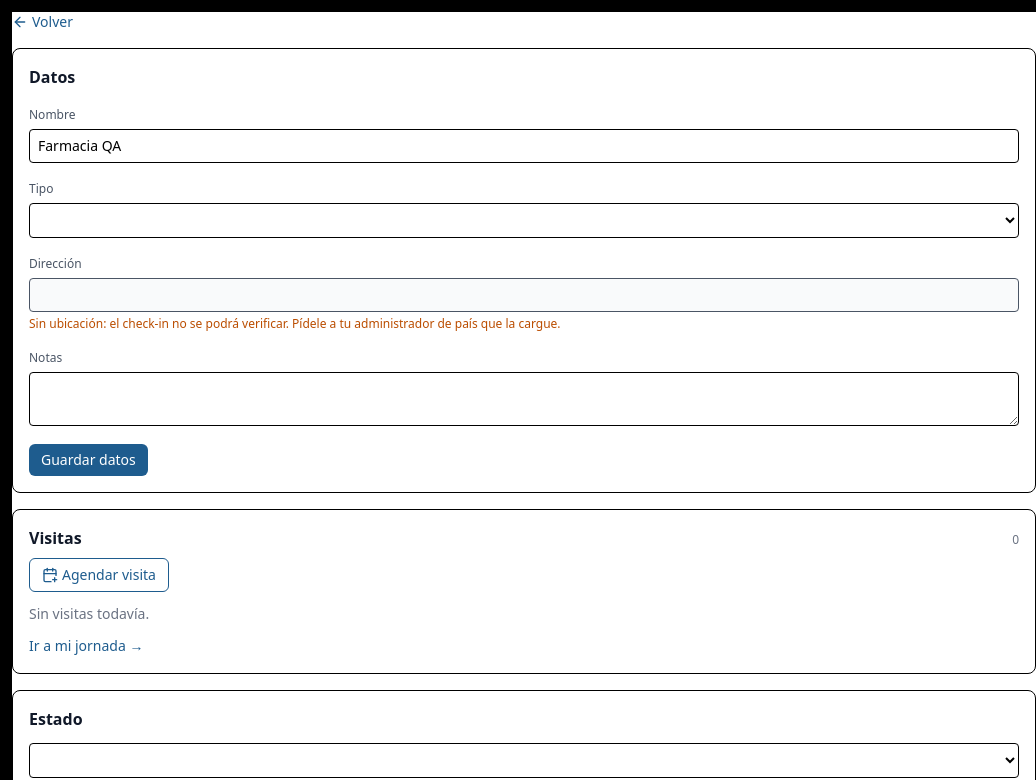
Test: ProspectoFichaPage — el 23505 al agendar lleva el contexto de la pantalla › muestra "Ya hay una visita activa para este prospecto ese día", no el genérico del mapa
// fireEvent y no user-event: no se agrega una dependencia nueva por un test.
Click the button "Agendar visita" at (99, 575), box [29,558,169,592]
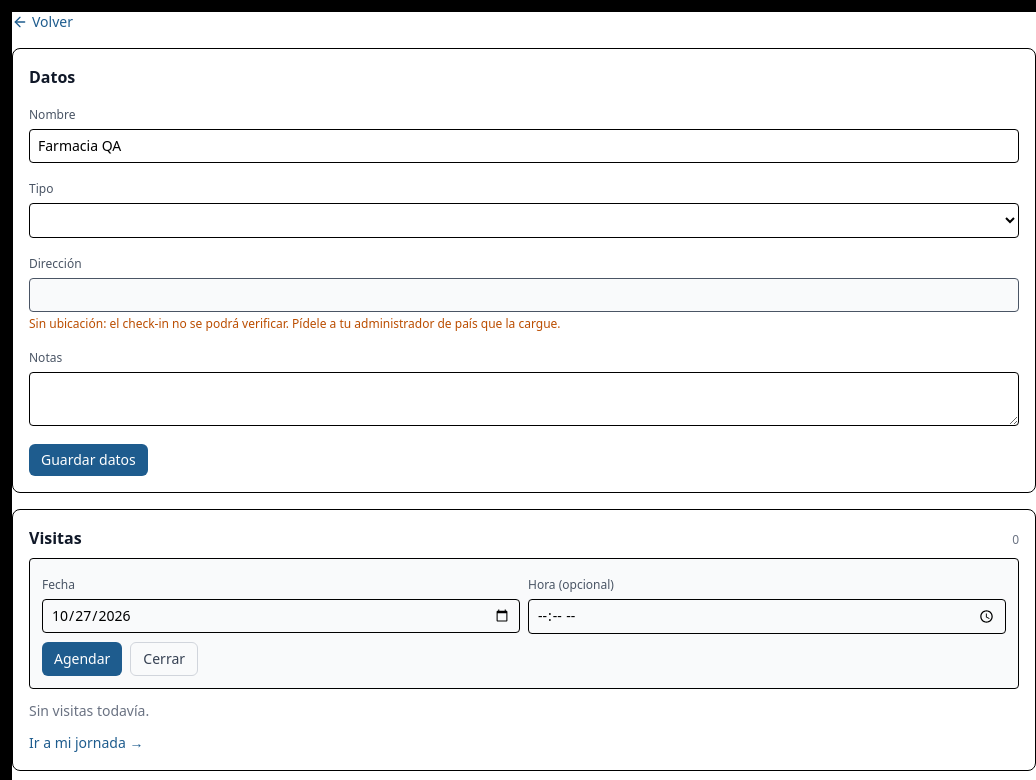
Click the button "Agendar" at (82, 659), box [42,642,122,676]
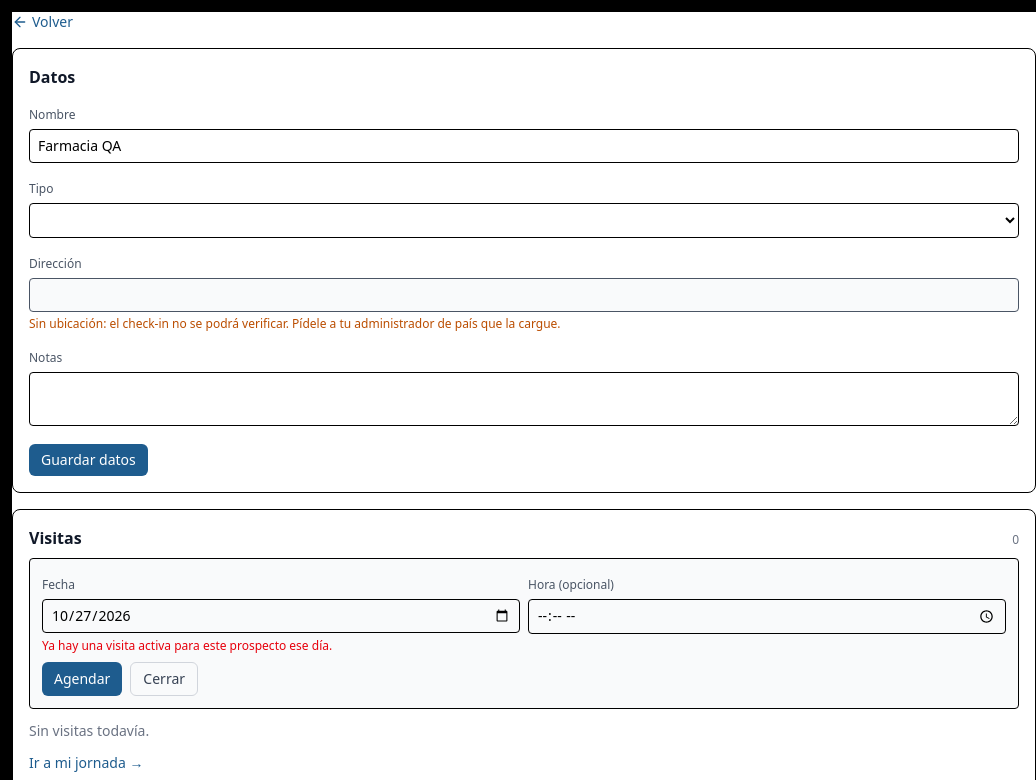
Expected: the text "Ya hay una visita activa para este prospecto ese día." is shown, [42,637,332,654]
